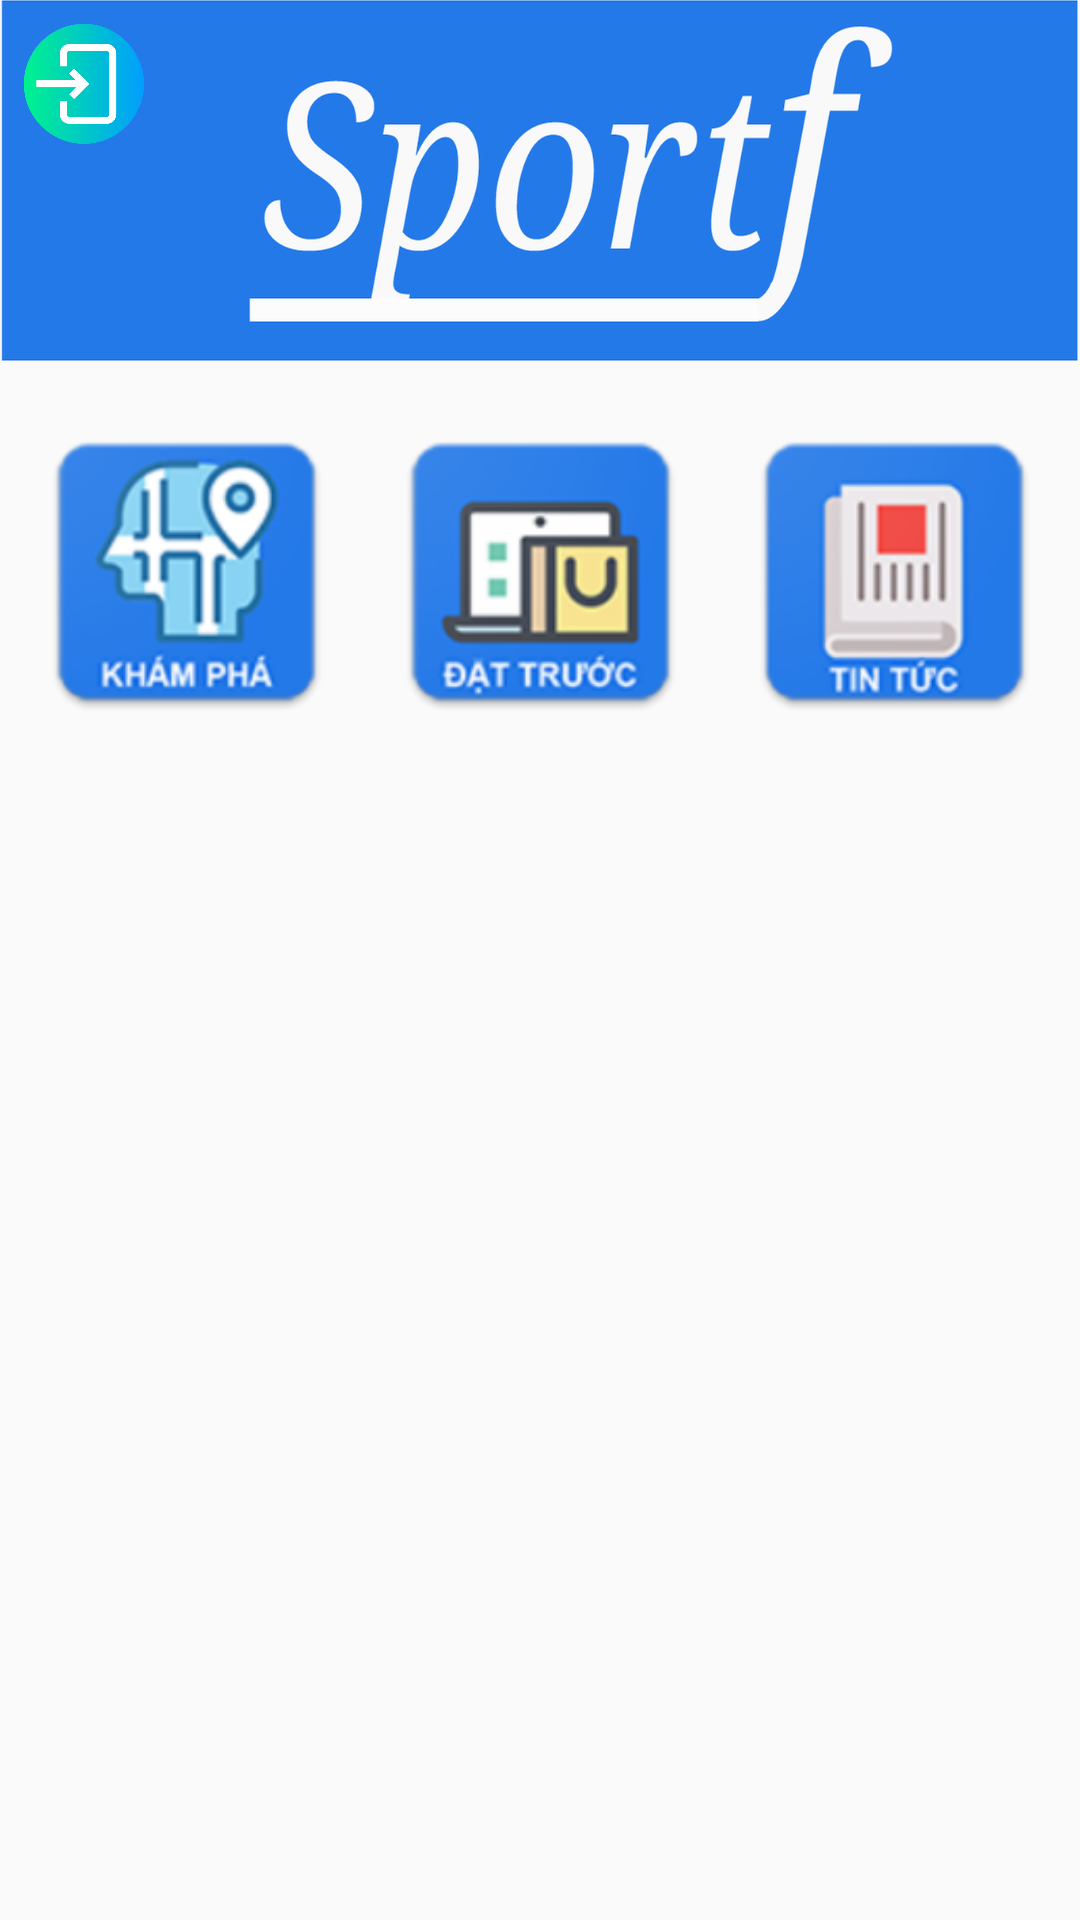

Point at icon controls on the screen. Image size 1080×1920, points as (x=x, y=y).
enter: (x=84, y=84)
